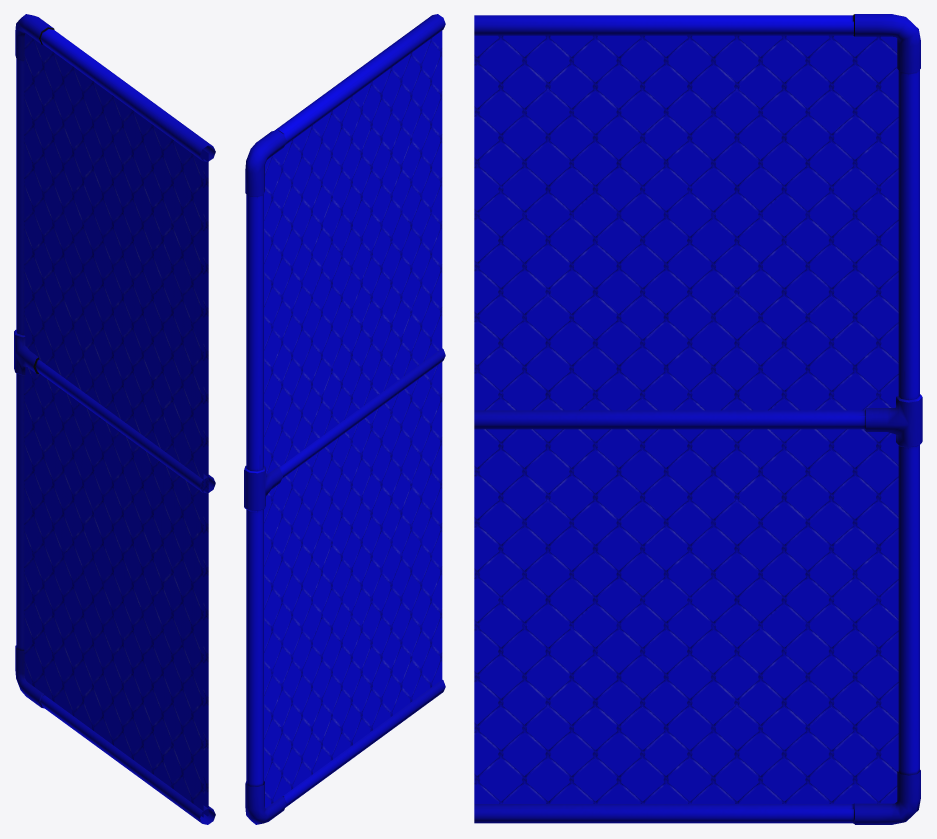
The model's file is fence.fbx.
3 views of the same model, side by side, from view 1: azimuth 30°, elevation 25°; view 2: azimuth 150°, elevation 25°; view 3: azimuth 270°, elevation 25° (orthographic). The views are drawn at different scales.
Parts seen in each view (by area): view 1: fancy; view 2: fancy; view 3: fancy.
Part boxes in pixels (x1,y1,x2,y2): fancy: (14, 14, 215, 824); fancy: (244, 14, 445, 824); fancy: (474, 14, 922, 824).
Bounding box in the file's own units: 24.89 × 823 × 412.
